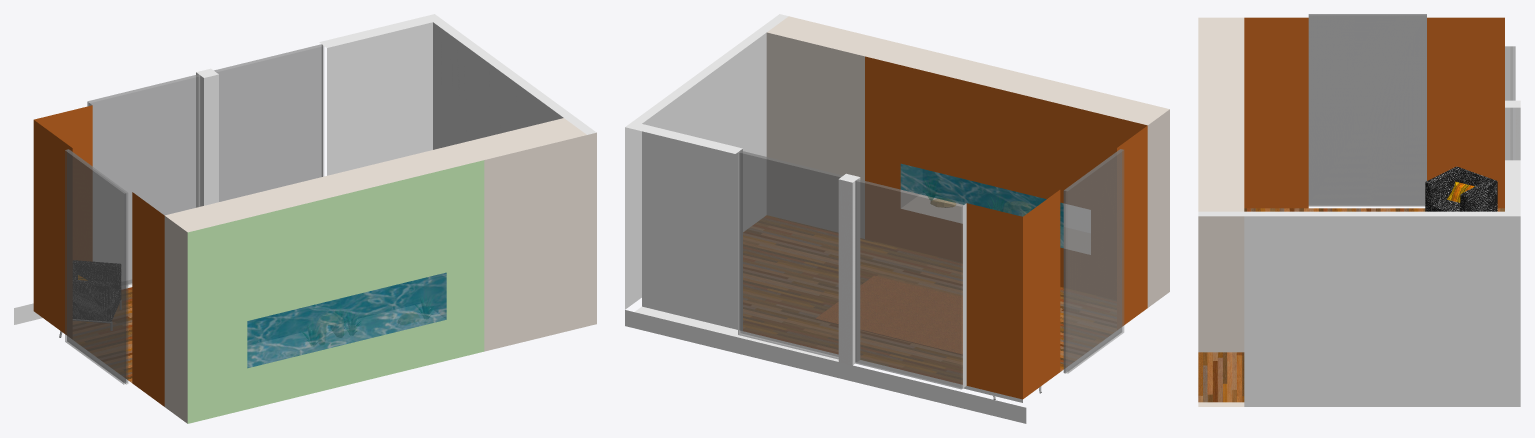
File: dining_room.dae
The picture shows the model from 3 angles, left to right: view 1: azimuth 30°, elevation 25°; view 2: azimuth 150°, elevation 25°; view 3: azimuth 270°, elevation 25°; orthographic projection. The views are drawn at different scales.
Visible parts, largest first — view 1: Component (×16); view 2: Component (×18); view 3: Component (×13).
Boxes of the visible parts, left/top/right/bottom form: Component (×16): left=33, top=14, right=596, bottom=423; Component (×18): left=625, top=16, right=1169, bottom=423; Component (×13): left=1198, top=14, right=1520, bottom=406.
Size of the model in its own units: 303 by 202 by 143.
22 materials, 4 textured.
